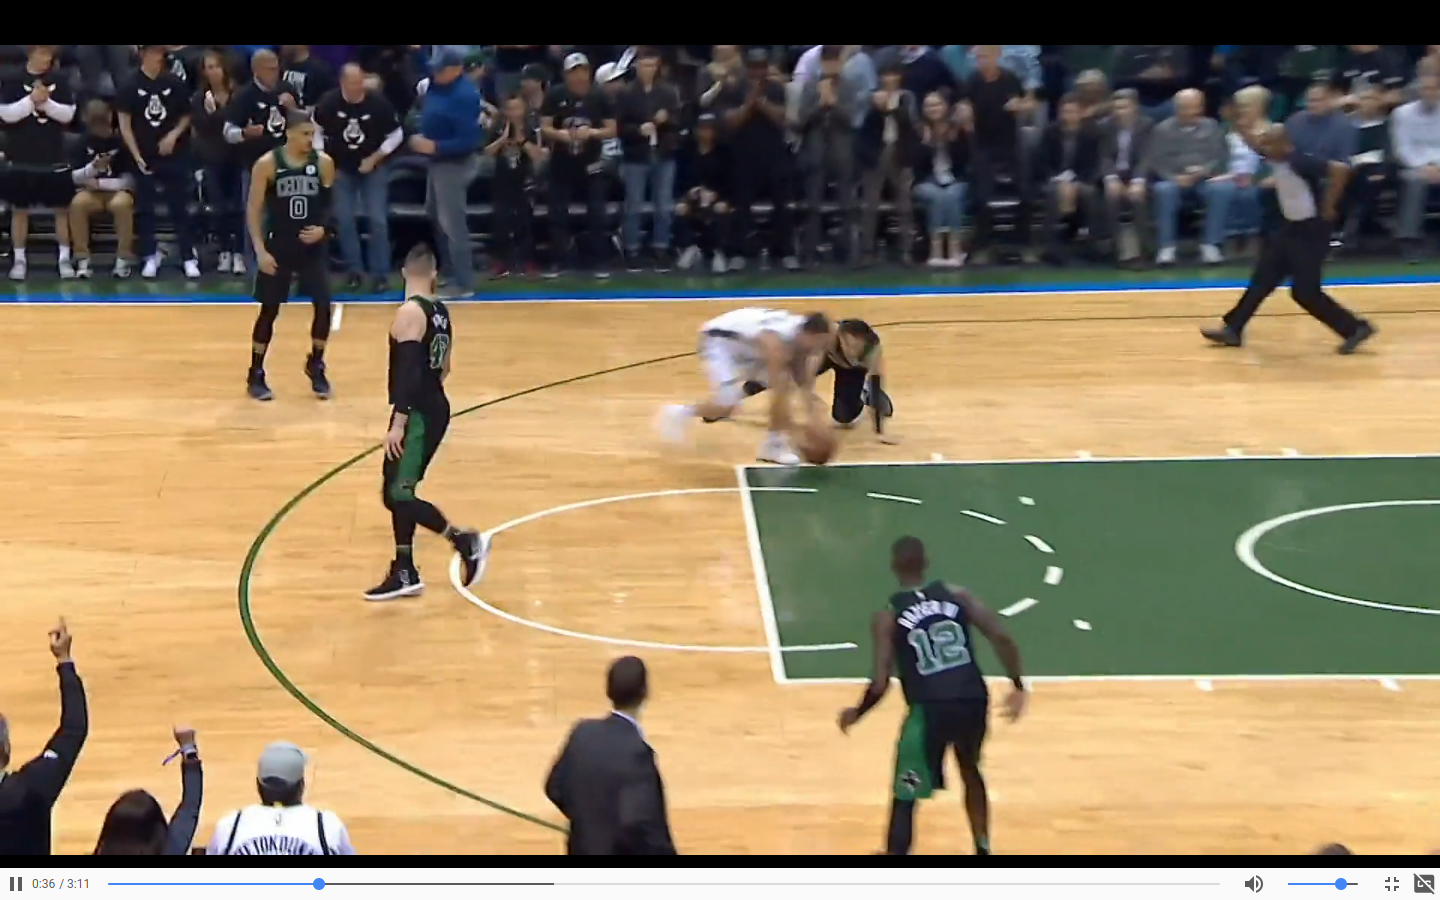basketball: (795, 417, 845, 477)
basketball player: (833, 523, 1028, 854), (355, 242, 495, 616), (227, 116, 347, 422), (655, 309, 821, 463), (813, 305, 905, 451)
referee: (1199, 122, 1379, 354)
